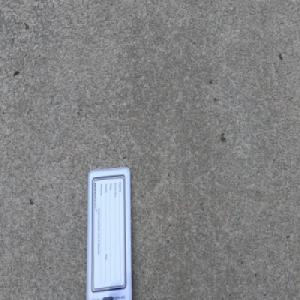LuggageTag: (84, 165, 133, 300)
